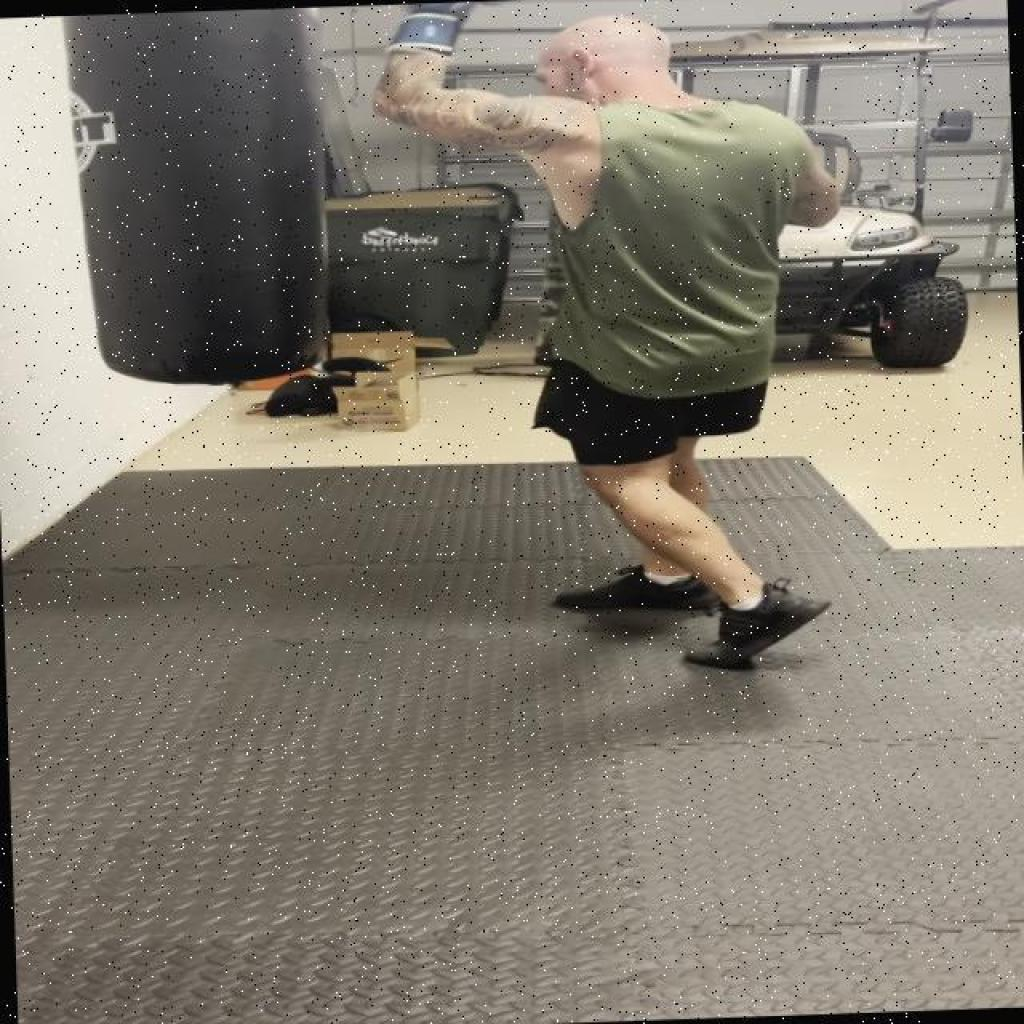bag: (67, 6, 338, 392)
uppercut: (358, 0, 779, 230)
